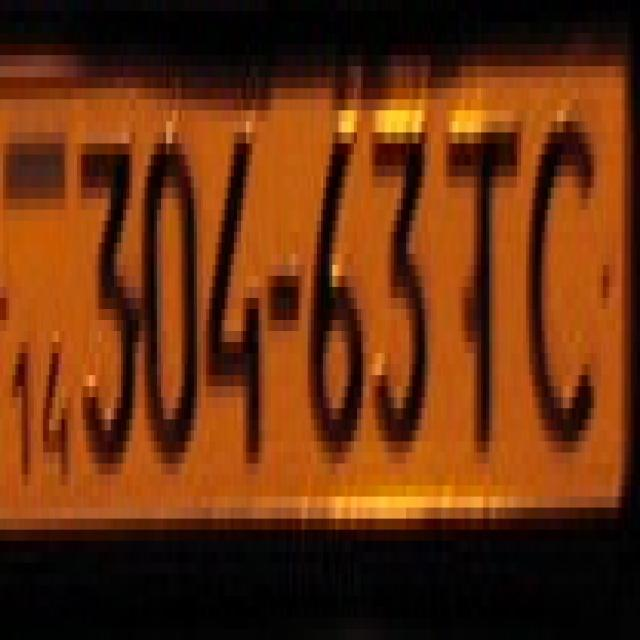0: (144, 132, 203, 442)
3: (80, 110, 136, 486), (372, 121, 425, 442)
4: (206, 110, 262, 463)
6: (310, 121, 366, 442)
C: (529, 100, 597, 442)
T: (446, 100, 520, 430)
